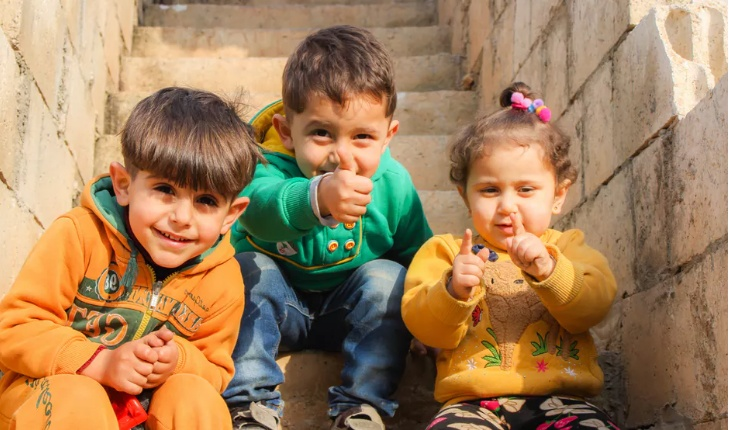face: (129, 171, 225, 266), (469, 149, 554, 246), (297, 92, 383, 187)
